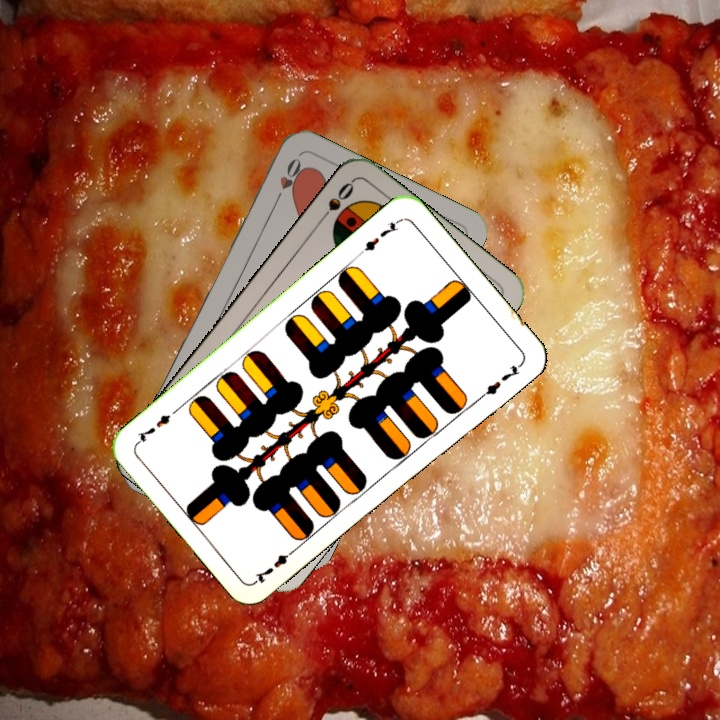E7: (354, 215, 404, 258), (251, 543, 301, 586)
HO: (270, 153, 304, 208)
SO: (313, 177, 357, 227)
